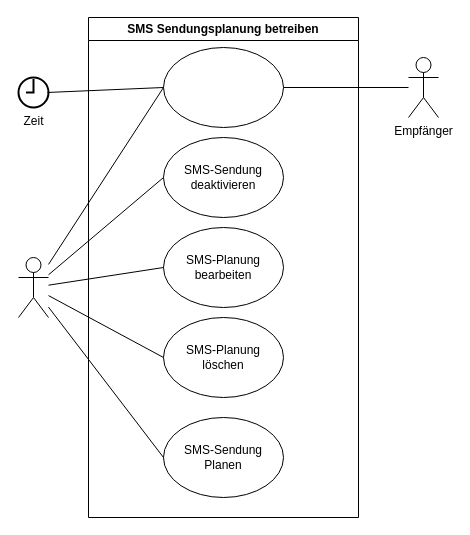
This 470x535 diagram has some shape labels left out. Each missing label, with the box of its shape:
SMS-Sendung aktivieren: (162, 46, 284, 128)
User: (18, 256, 48, 318)
